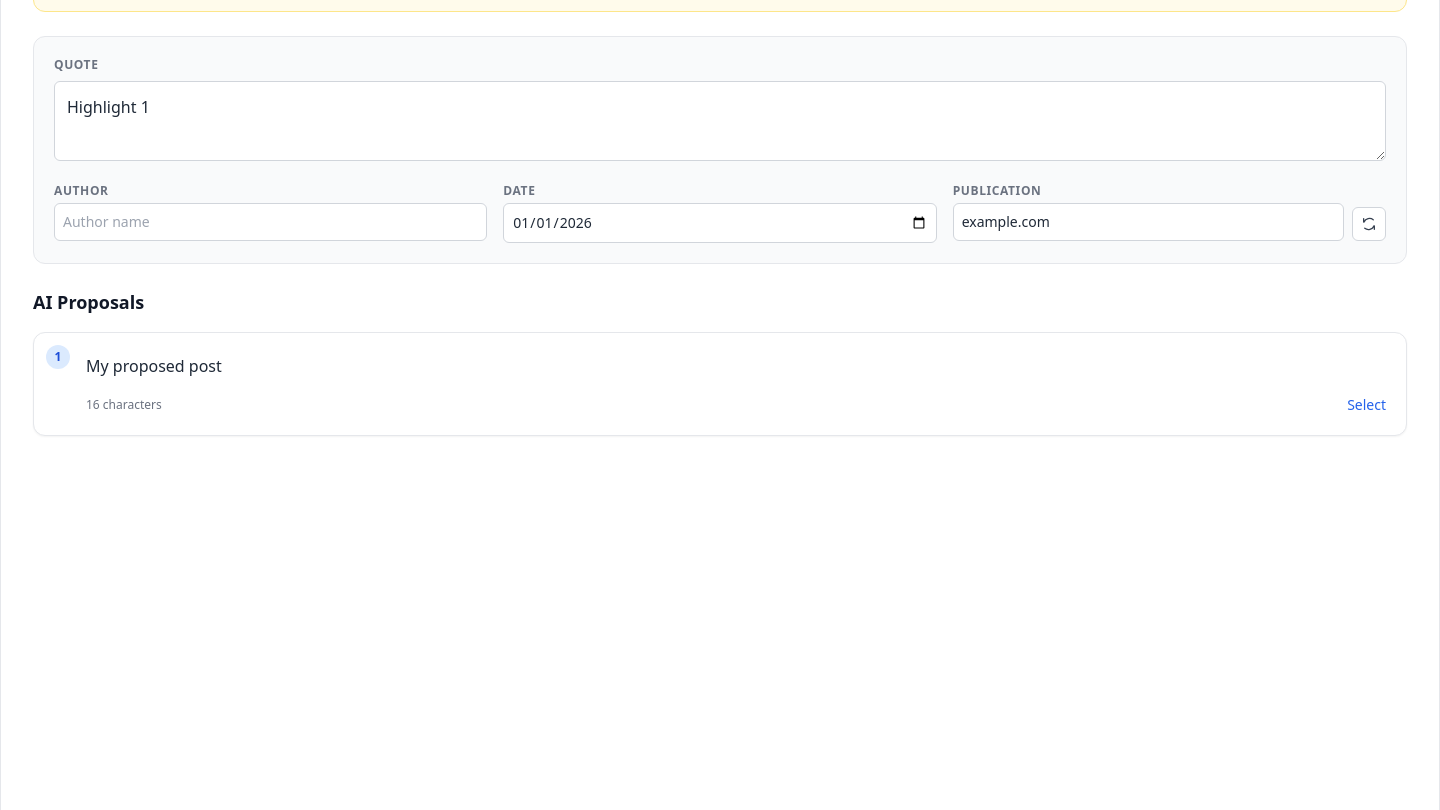
Scenario: PostPage — AI proposals panel › clicking a proposal switches carousel to image options panel
(page scrolled)
Expected: the element with test id "ai-proposals-panel" is shown, x1=33 y1=288 x2=1407 y2=436
Click the button with aria-label "select this proposal" at (1367, 405), box x1=1347 y1=395 x2=1386 y2=415
(page scrolled)
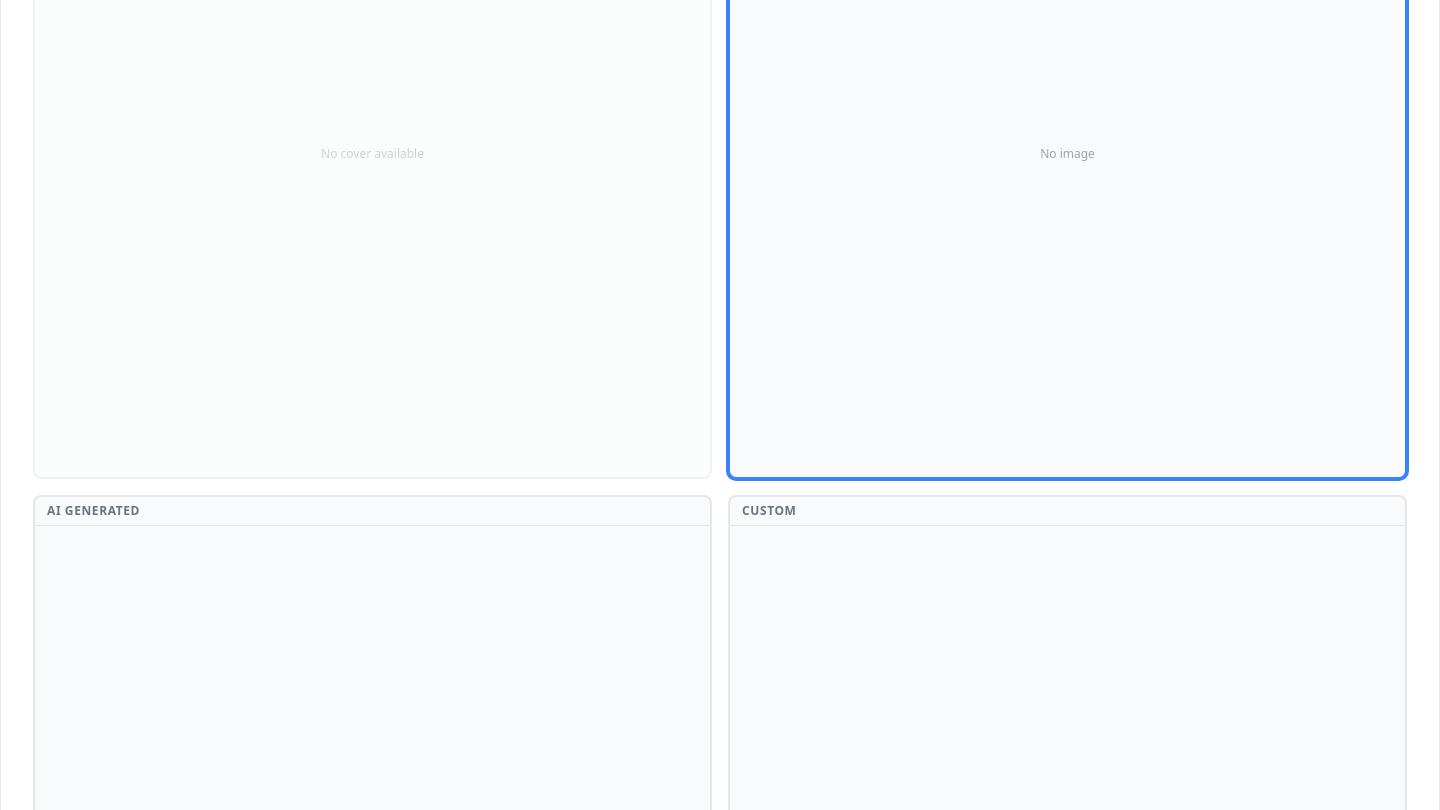
Result: the element with test id "ai-proposals-panel" is gone
